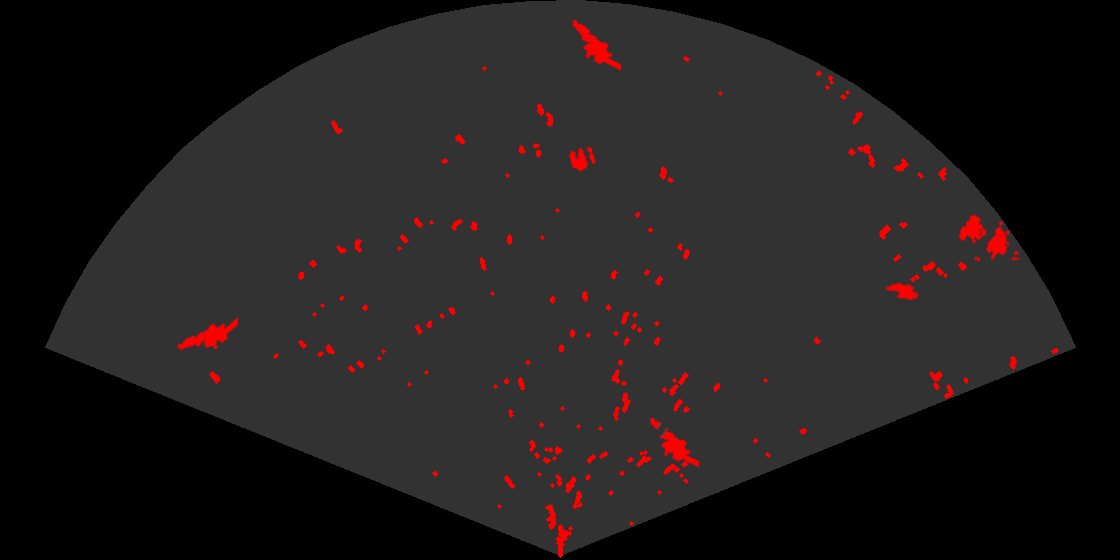AUV: (884, 281, 920, 302)
ball: (568, 145, 597, 173)
cage: (957, 213, 1019, 261)
frogman: (570, 18, 621, 72), (648, 416, 699, 469), (175, 316, 238, 352)
